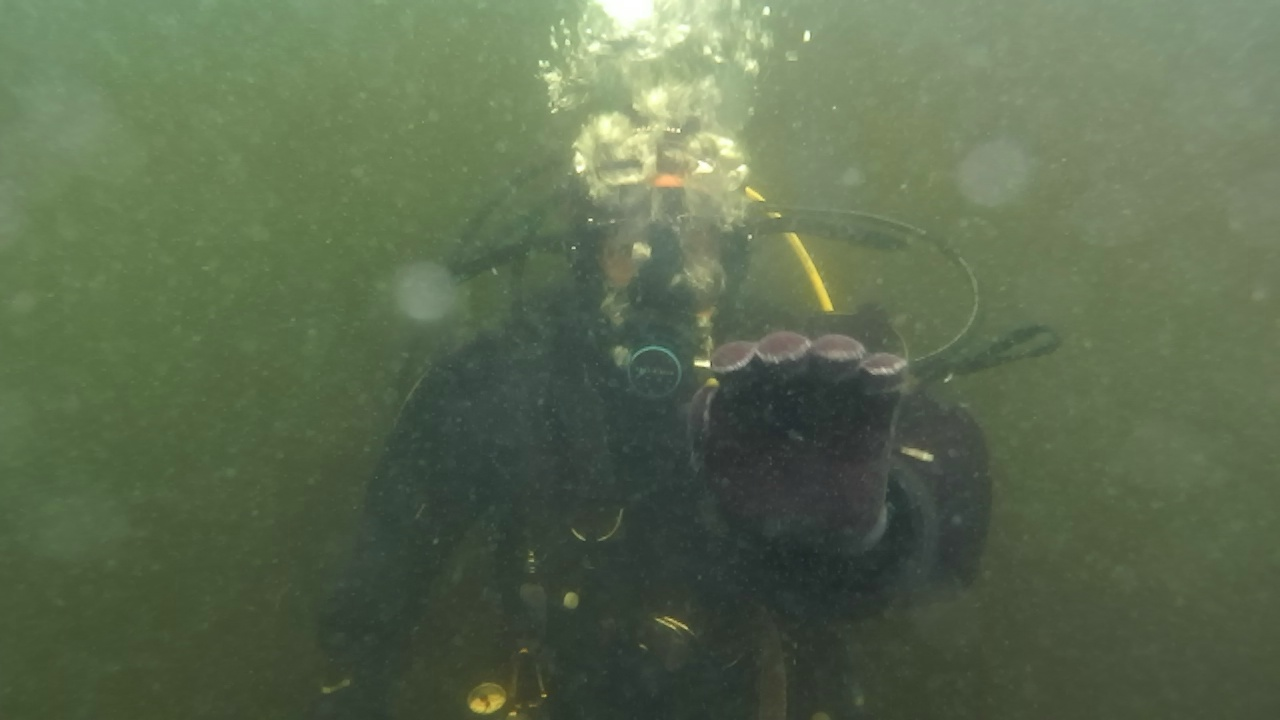Hand: (676, 334, 932, 568)
Head: (560, 102, 740, 410)
